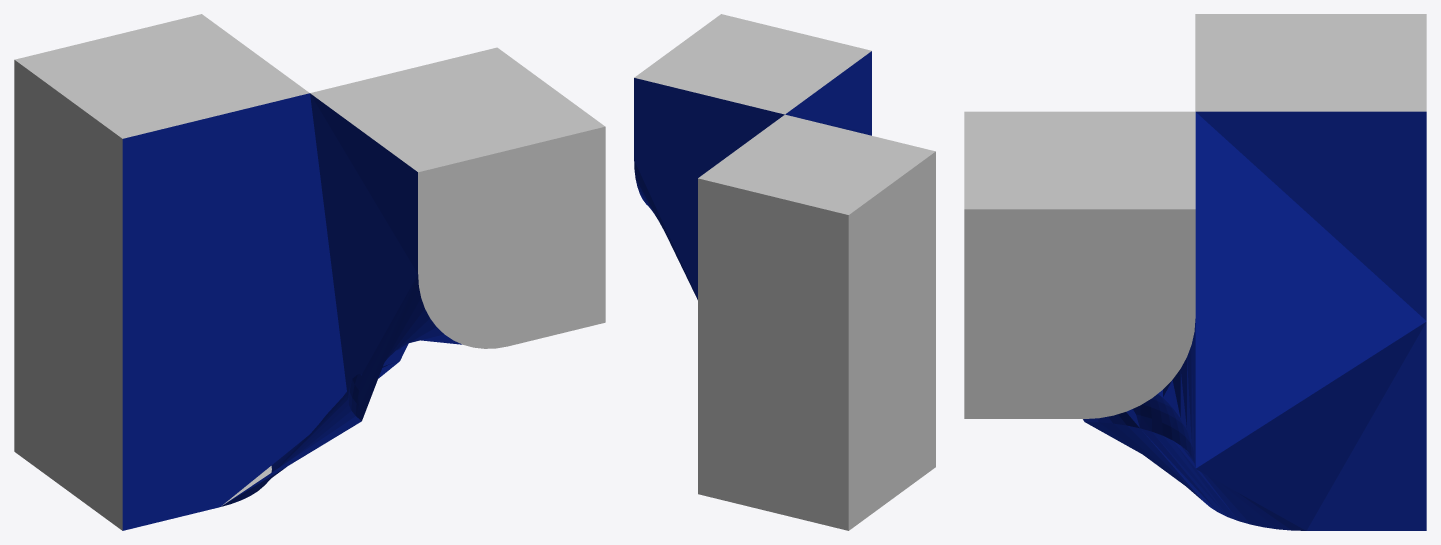
Rendered from case_81.fbx.
The picture shows the model from 3 angles, left to right: view 1: azimuth 30°, elevation 25°; view 2: azimuth 150°, elevation 25°; view 3: azimuth 270°, elevation 25°; orthographic projection. The views are drawn at different scales.
Visible parts, largest first — view 1: case_81; view 2: case_81; view 3: case_81.
Part boxes in pixels (bbox=[...]): case_81: bbox=[14, 14, 605, 530]; case_81: bbox=[634, 14, 935, 530]; case_81: bbox=[964, 14, 1426, 530].
Size of the model in its own units: 1 by 1 by 1.
